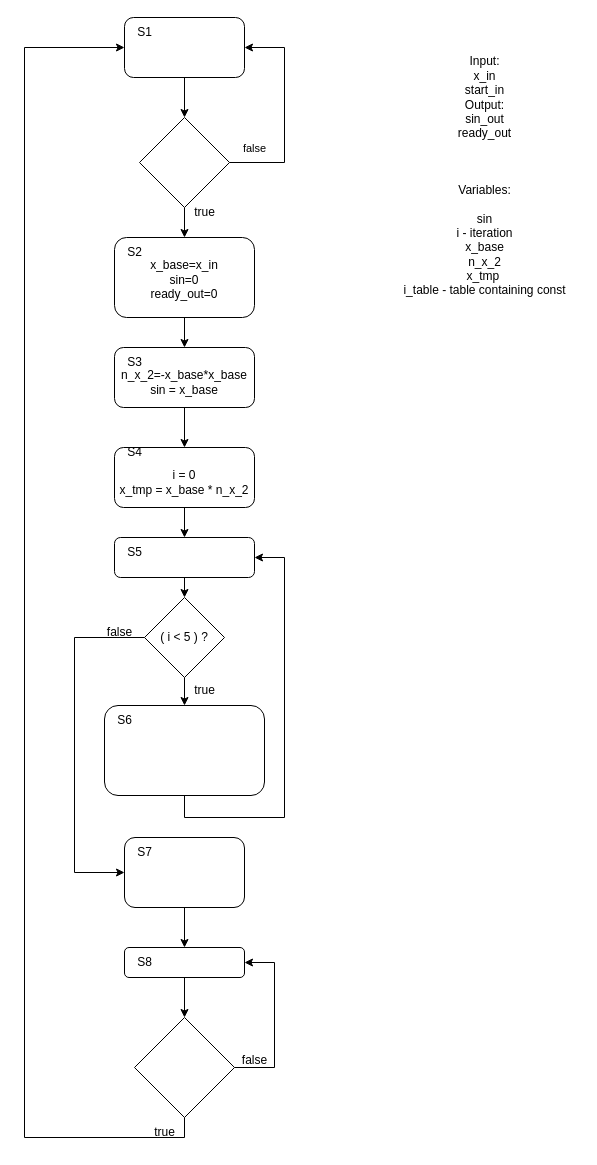
Some shapes in this 597 by 1165 pixel diagram are drawn without their labels. The shapes that lost their labels are listed below. From the top down, each one's box as (x1, y1, x2, y2) in pixels, then its label:
(138, 116, 230, 208): (start_in==1) ?
(104, 704, 264, 796): sin = sin + i_table[i] * x_tmp x_tmp = x_tmp * n_x_2 i = i + 1
(124, 836, 244, 908): sin_out = sin ready_out = 1
(134, 1016, 234, 1118): (start_in == 0)?
